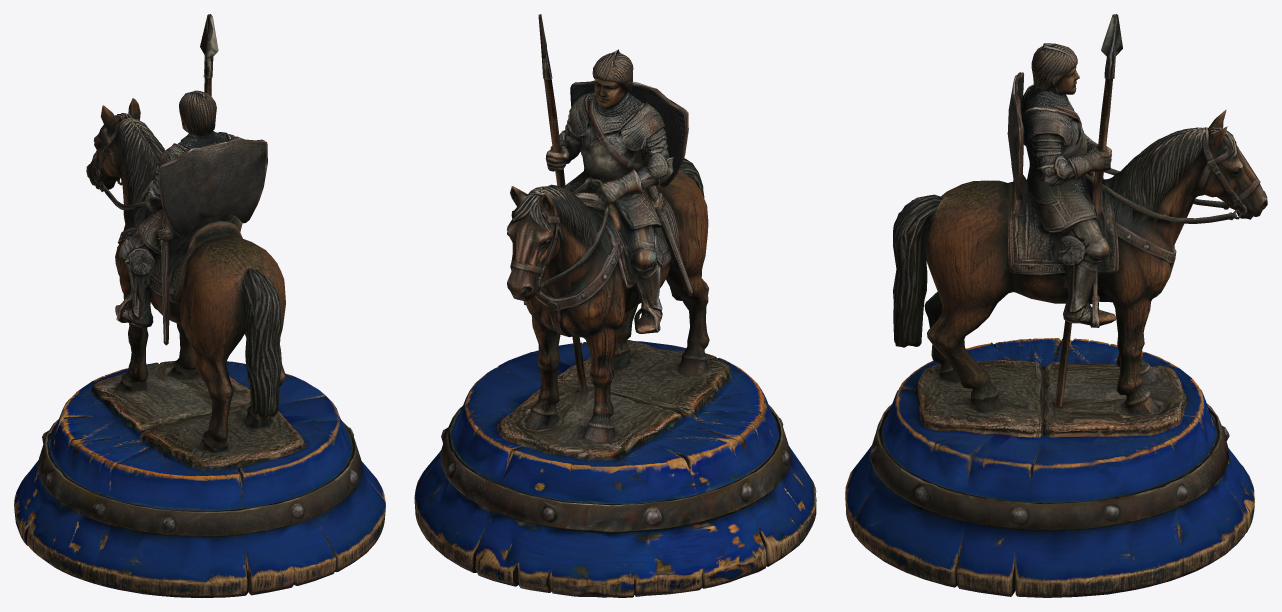
File: piece_cavalry.glb
3 renders of one model, left to right at view 1: azimuth 30°, elevation 25°; view 2: azimuth 150°, elevation 25°; view 3: azimuth 270°, elevation 25°, orthographic. The views are drawn at different scales.
Visible parts, largest first — view 1: piece_cavalry; view 2: piece_cavalry; view 3: piece_cavalry.
Part boxes in pixels (left/top/right/bottom): piece_cavalry: left=14, top=14, right=385, bottom=597; piece_cavalry: left=414, top=14, right=816, bottom=597; piece_cavalry: left=845, top=14, right=1267, bottom=597.
Size of the model in its own units: 0.9964 by 1.4 by 1.03.
1 material, 1 textured.
